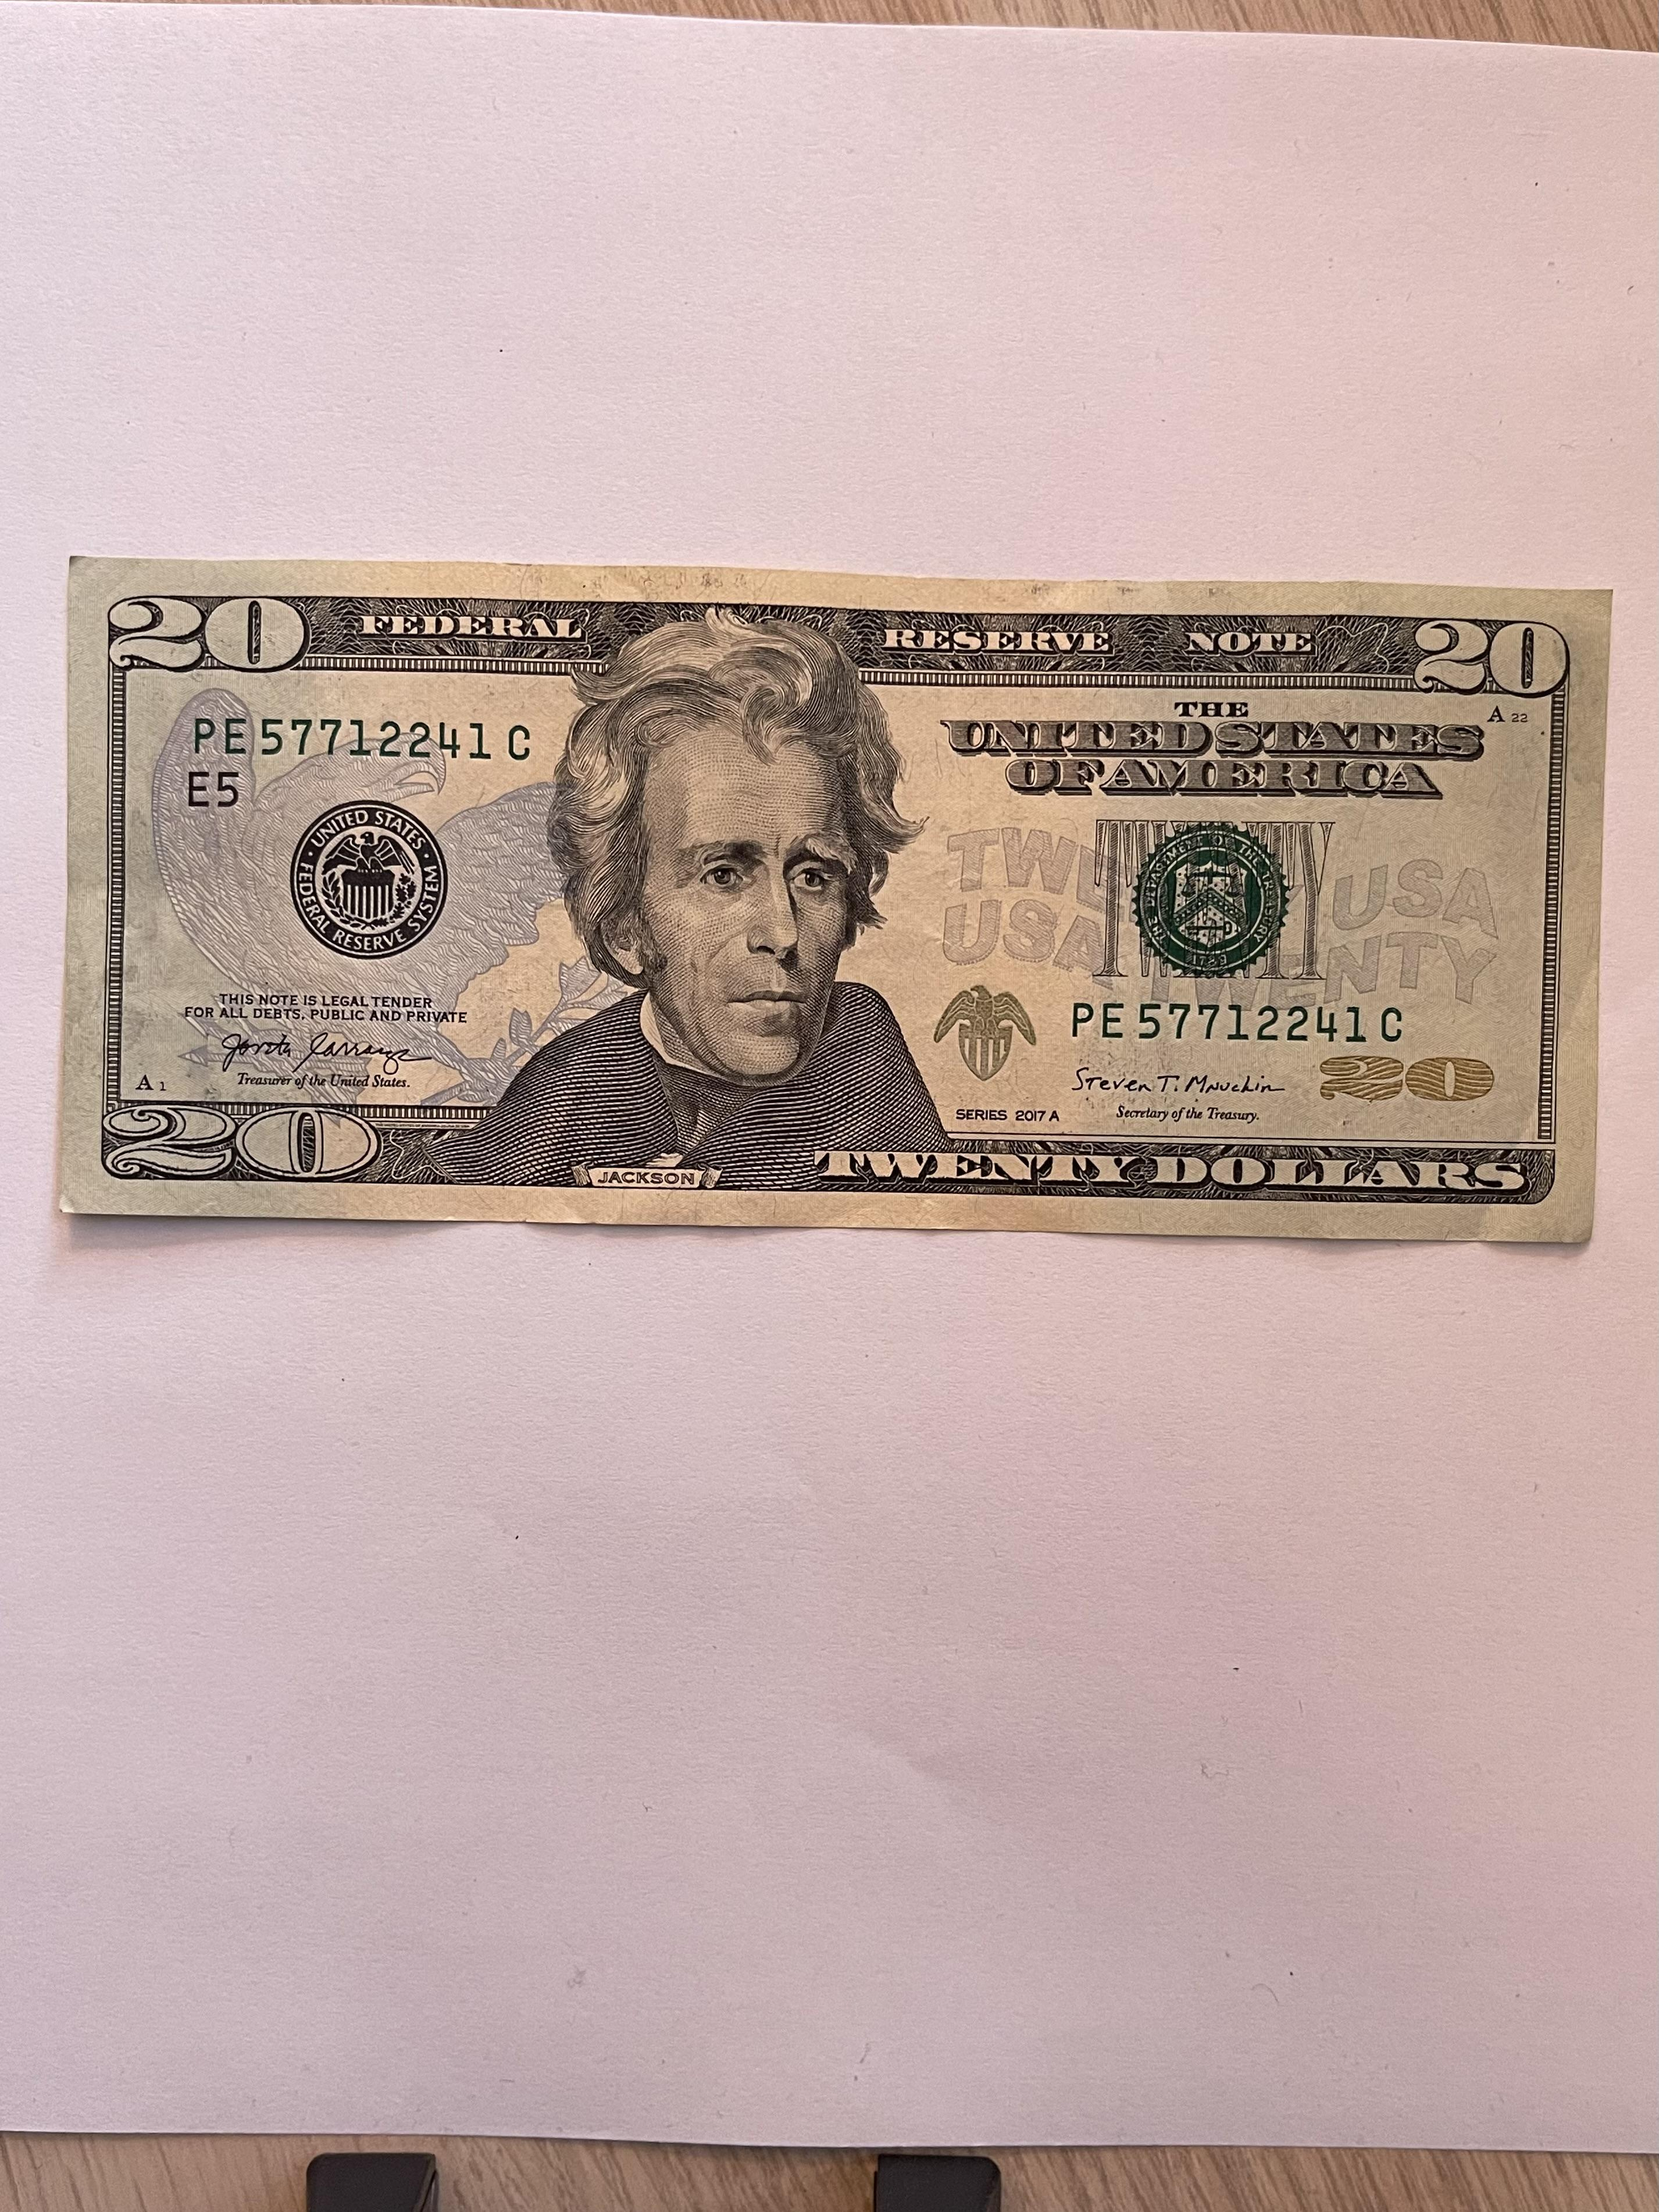TwentyBill: (51, 554, 1615, 1245)
